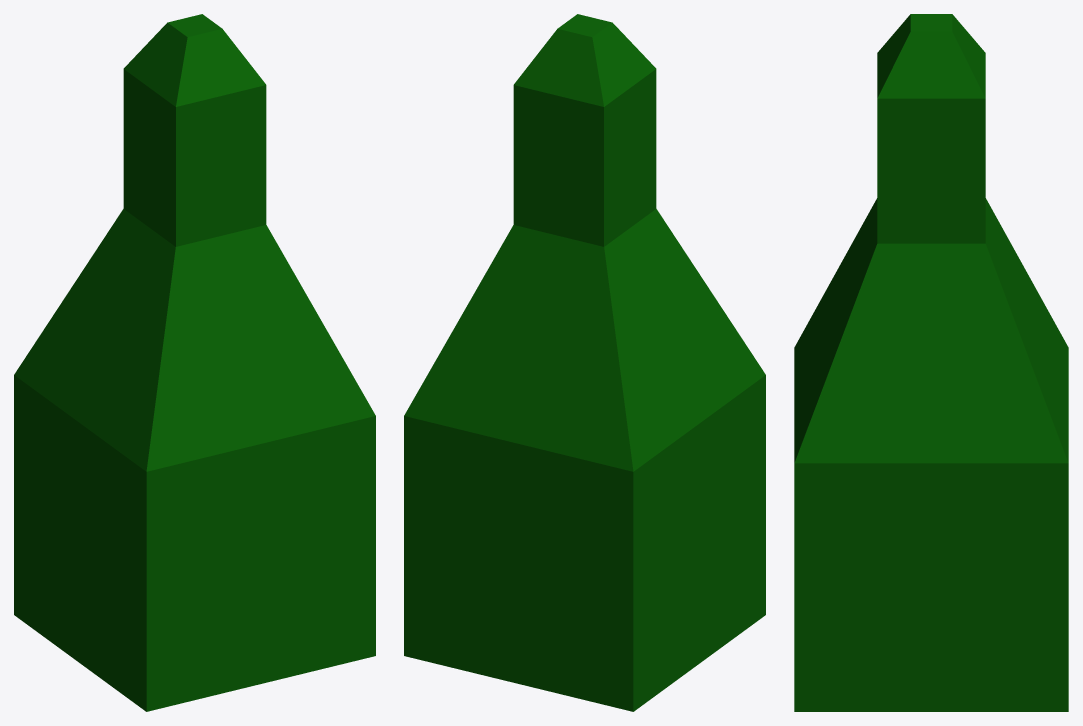
3 renders of one model, left to right at view 1: azimuth 30°, elevation 25°; view 2: azimuth 150°, elevation 25°; view 3: azimuth 270°, elevation 25°, orthographic. The views are drawn at different scales.
Visible parts, largest first — view 1: Cube; view 2: Cube; view 3: Cube.
Part boxes in pixels (x1=…): Cube: x1=14, y1=14, x2=375, y2=711; Cube: x1=404, y1=14, x2=765, y2=711; Cube: x1=794, y1=14, x2=1068, y2=711.
Size of the model in its own units: 200 by 508 by 200.
